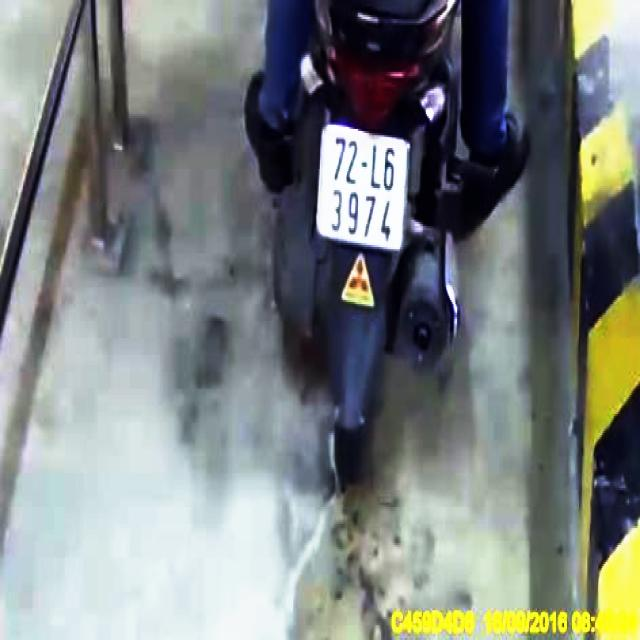license_plate: (316, 126, 411, 253)
